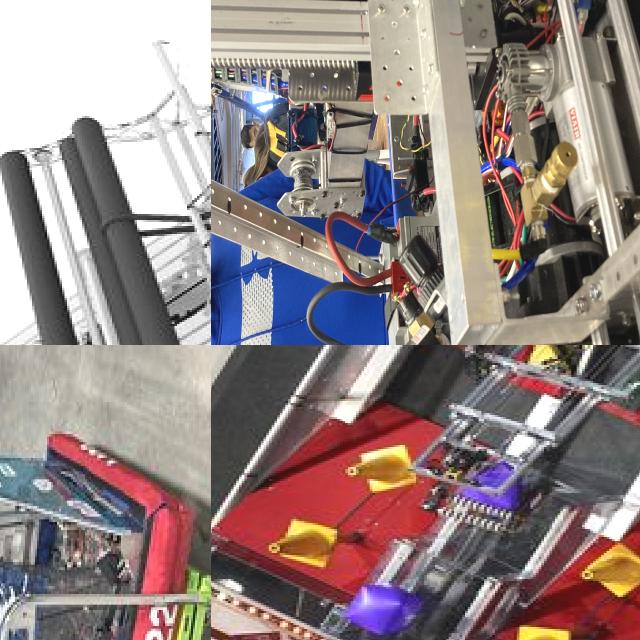FRC-Robots: (211, 0, 640, 345), (338, 345, 640, 613), (0, 40, 211, 345), (0, 402, 211, 640)
